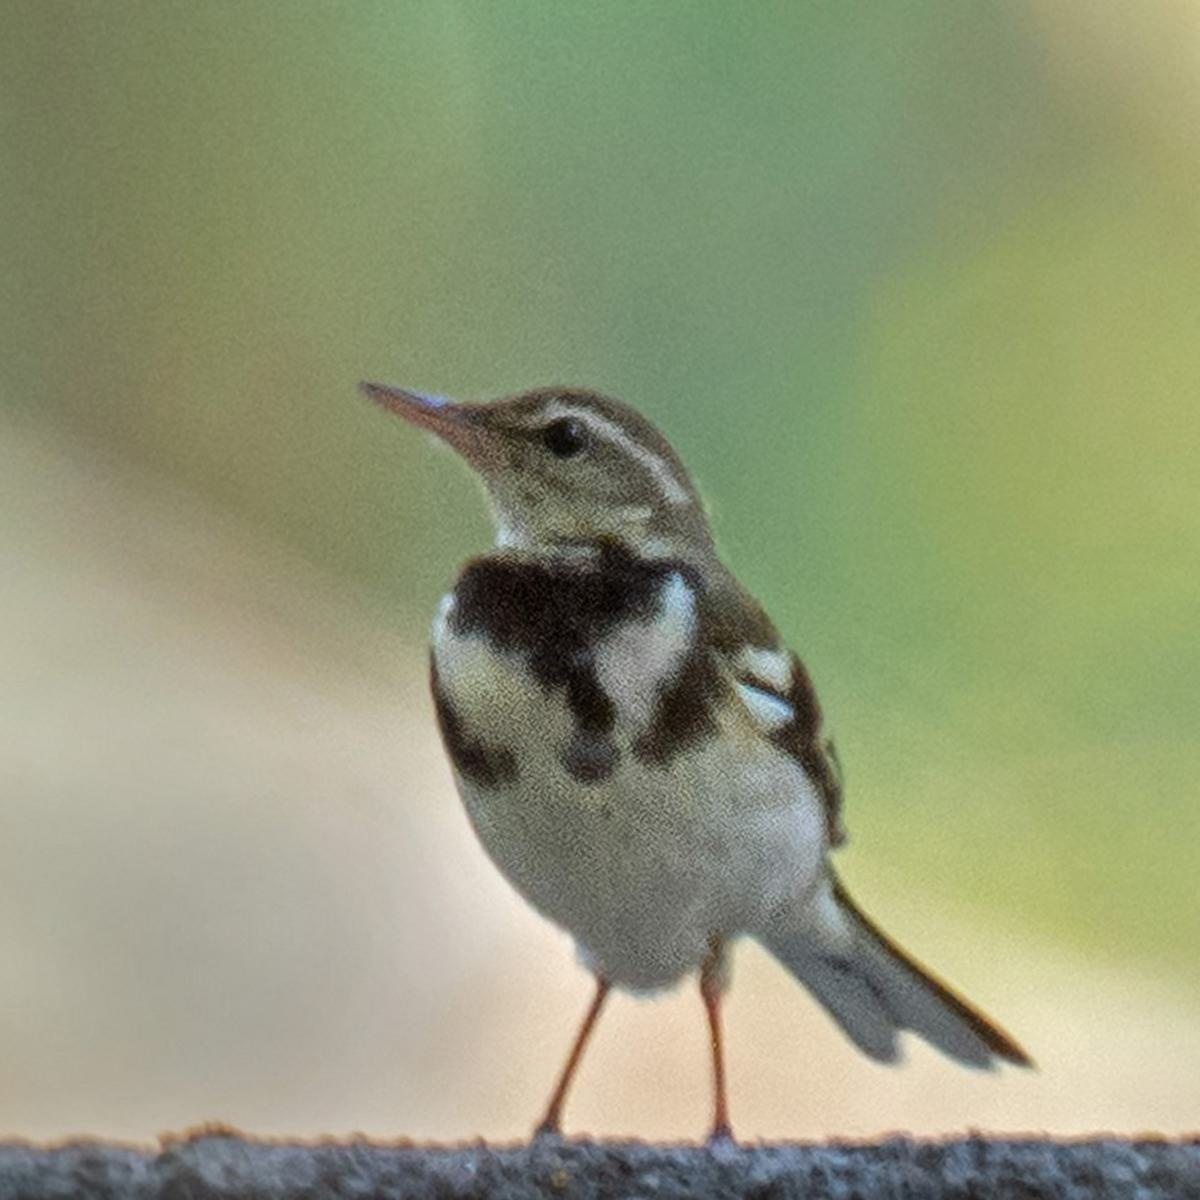wagtail: (354, 325, 1055, 1062)
